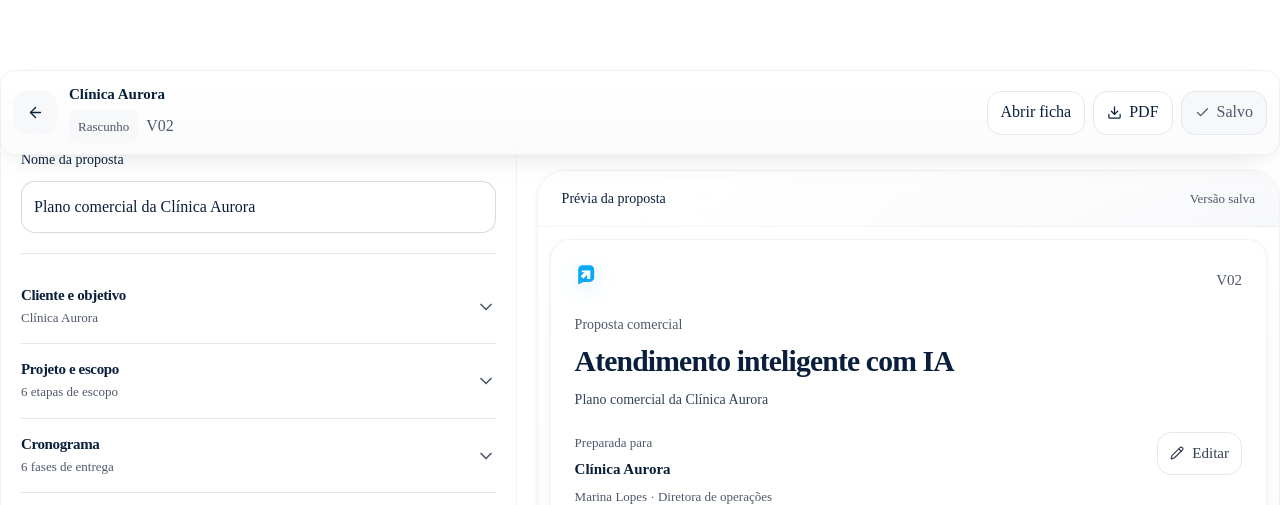
Scenario: EditorProposta › mantém pendente o que foi digitado durante o salvamento
Replace the text in the text box labelled "Nome da proposta" with "Versão enviada para salvar": (258, 207) [21,181,496,233]
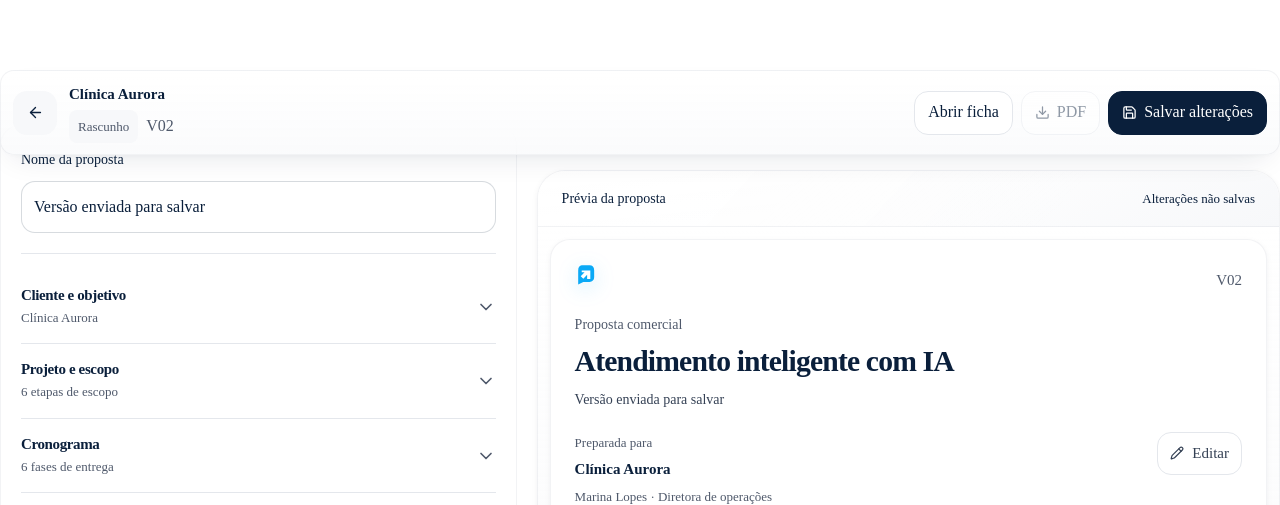
Click the button "Salvar alterações": (1188, 113) [1108,91,1267,135]
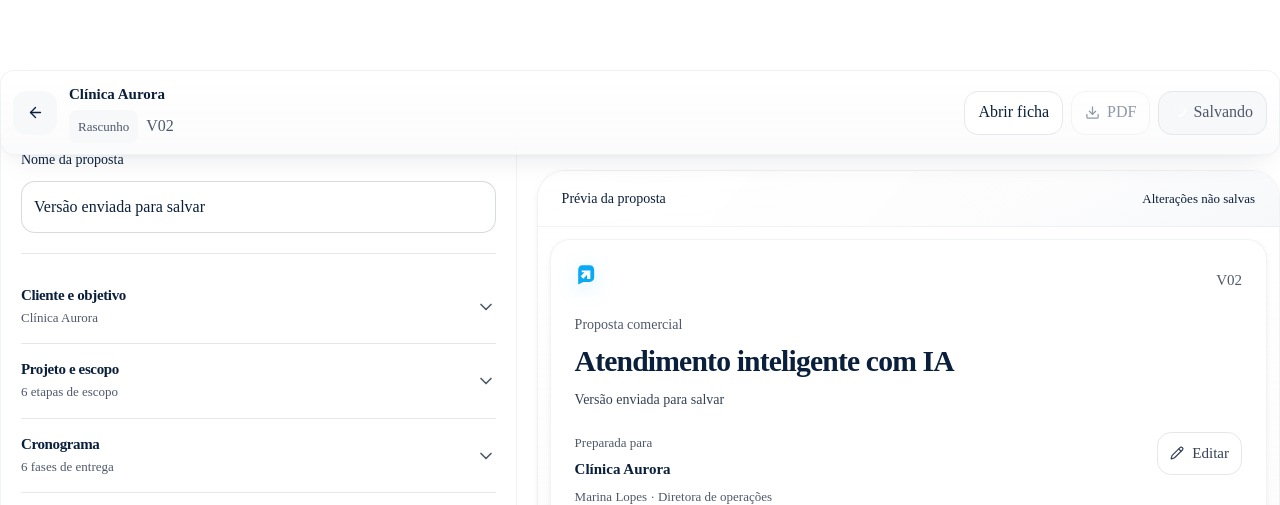
Check: the button "Salvando" is disabled, box [1158,91,1267,135]
Replace the text in the text box labelled "Nome da proposta" with "Alteração feita durante a espera": (258, 207) [21,181,496,233]
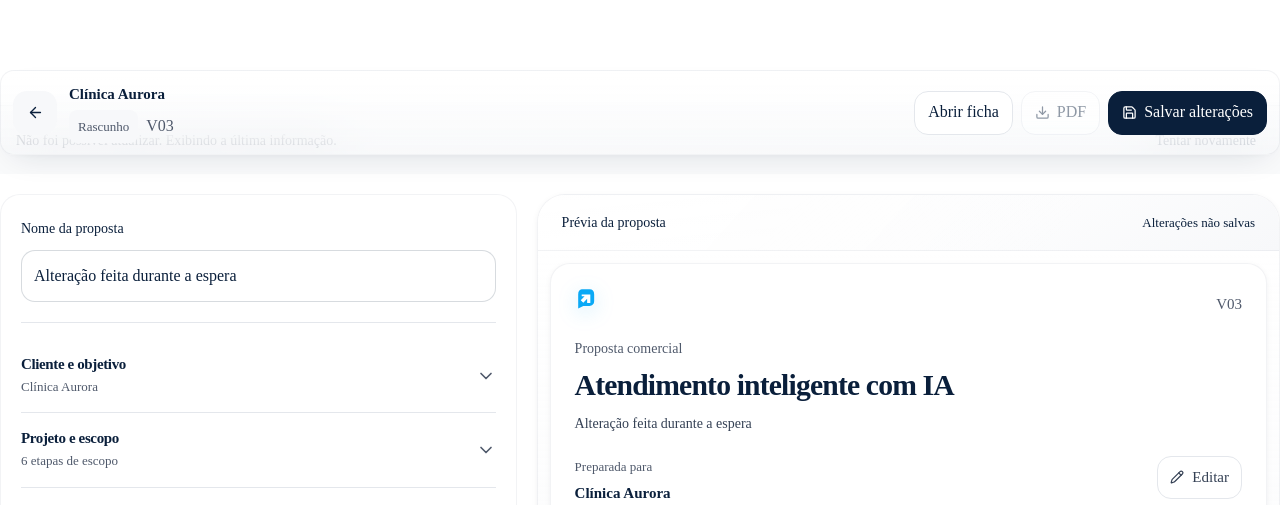
Check: the text "Alterações não salvas" is shown, box [1142,212,1255,233]
Check: the text "Alteração feita durante a espera" is shown, box [575,416,752,431]
Check: the button "Salvar alterações" is enabled
Click the button "Salvar alterações": (1188, 113) [1108,91,1267,135]
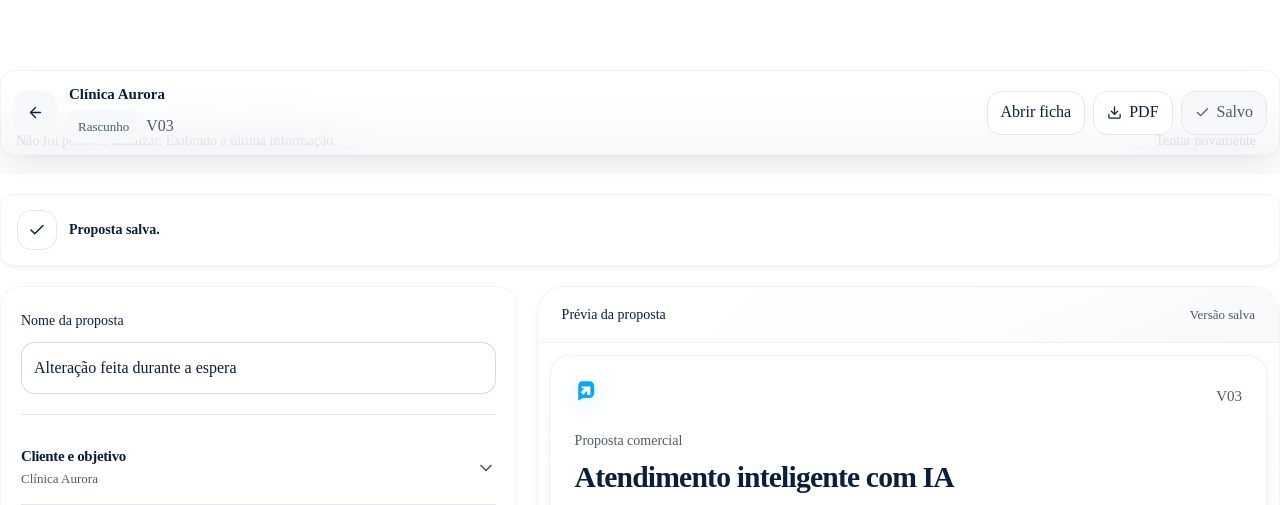
Check: the link "PDF" is shown, box [1093,91,1173,135]
Check: the text "Versão salva" is shown, box [1190,304,1255,325]
